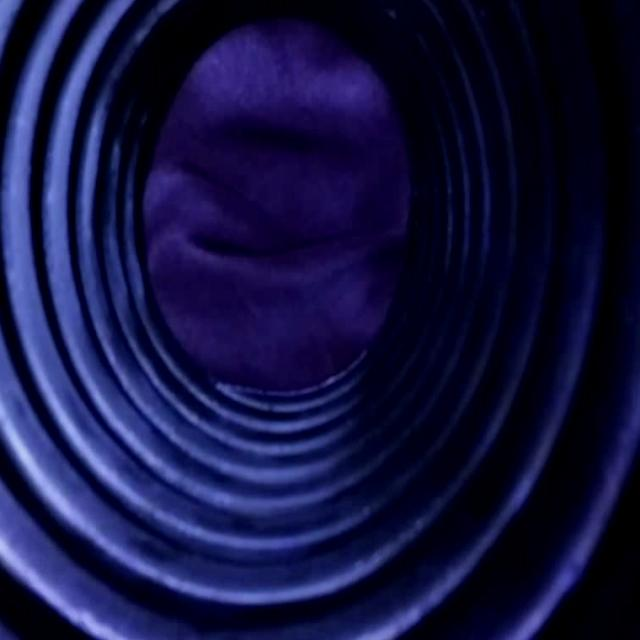block: (137, 26, 407, 398)
